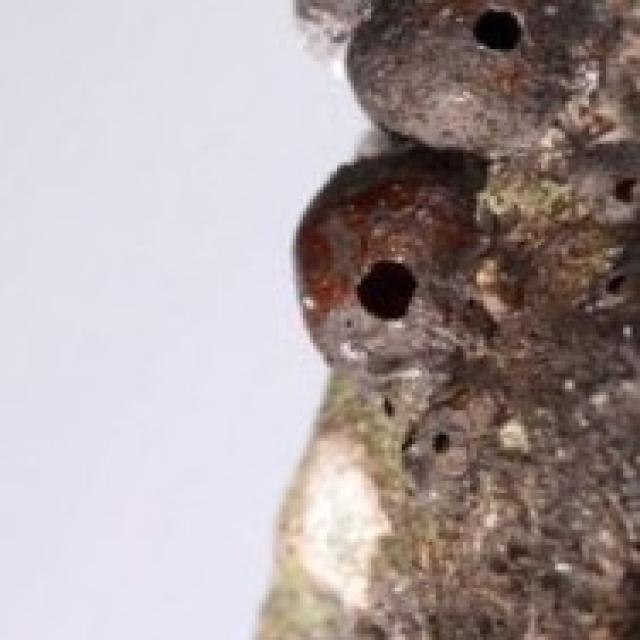Black Scale: (296, 144, 490, 395), (347, 0, 620, 168)
